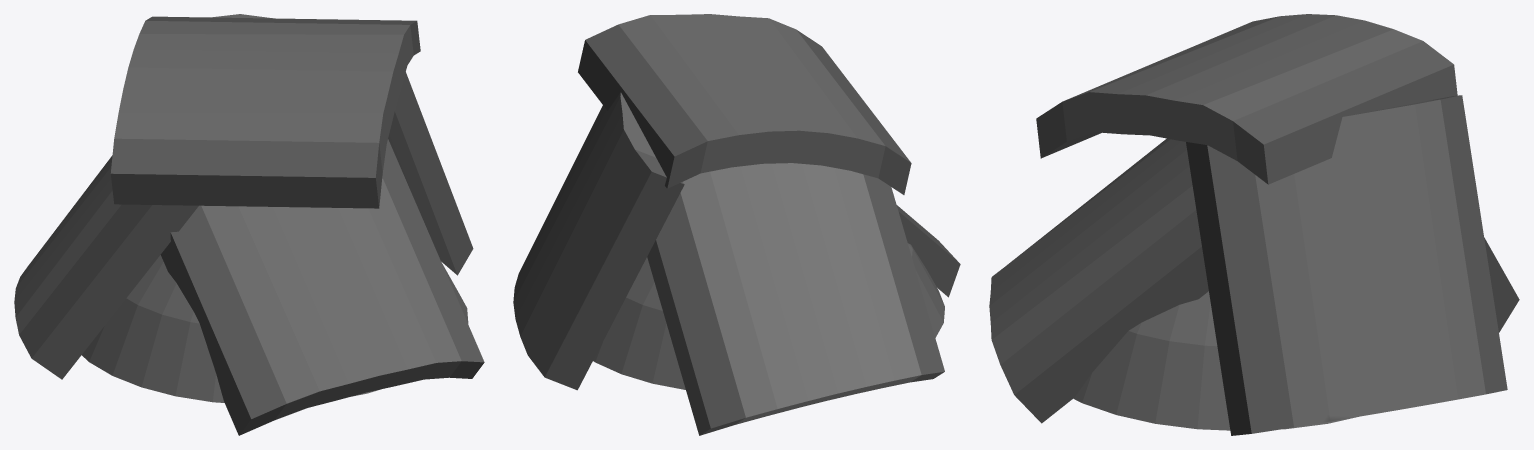
Rendered from gareki.fbx.
3 renders of one model, left to right at view 1: azimuth 30°, elevation 25°; view 2: azimuth 150°, elevation 25°; view 3: azimuth 270°, elevation 25°, orthographic. The views are drawn at different scales.
Visible parts, largest first — view 1: 立方体.002; view 2: 立方体.002; view 3: 立方体.002.
Part boxes in pixels (<box>): 立方体.002: <box>14,14,484,435</box>; 立方体.002: <box>513,14,960,435</box>; 立方体.002: <box>989,14,1519,435</box>.
Bounding box in the file's own units: 74.42 × 48.79 × 71.55.
